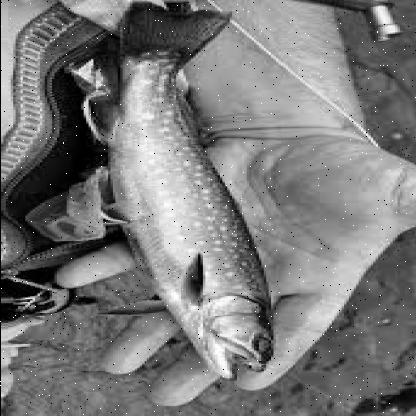fish: (92, 0, 284, 382)
